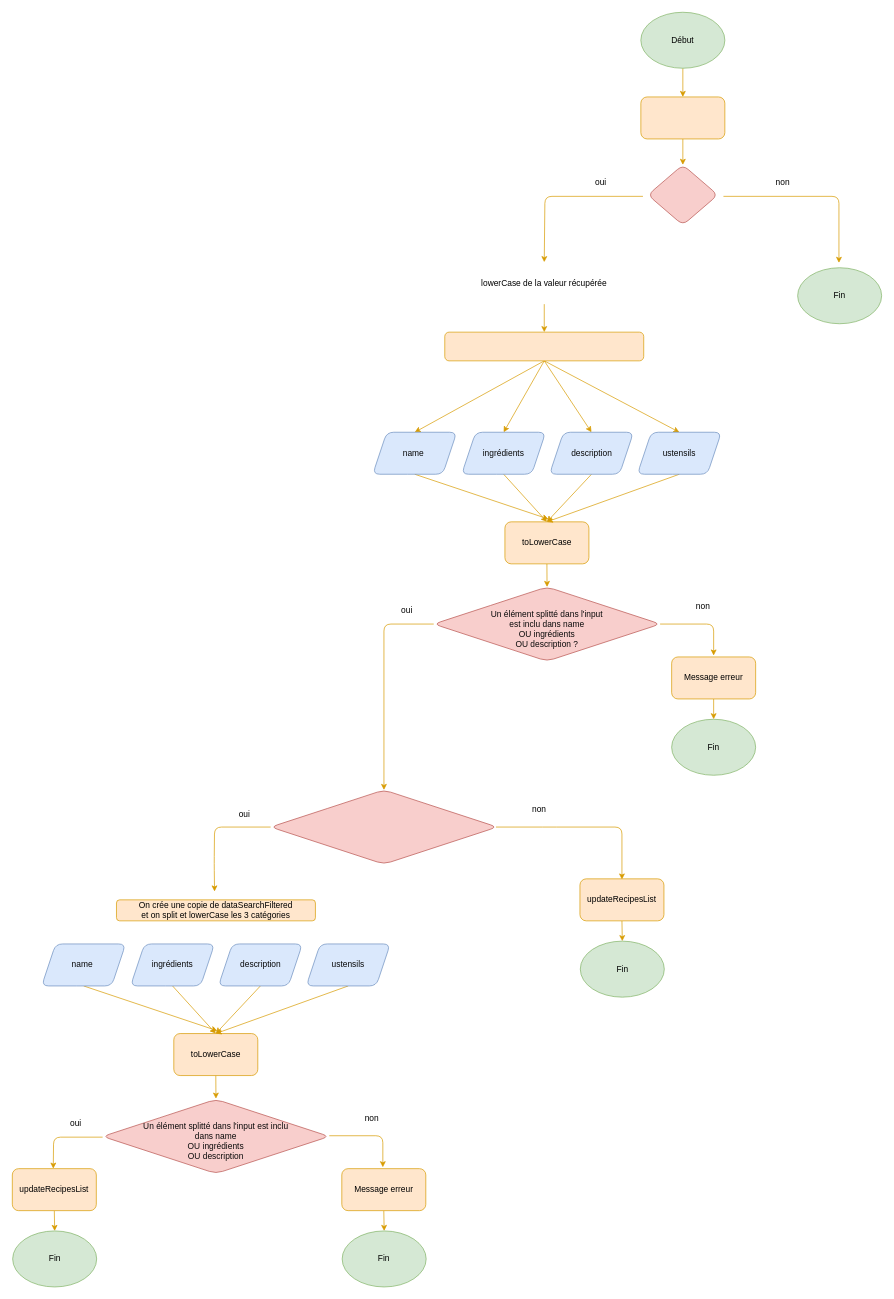
This 894x1299 diagram has some shape labels left out. Here are the shapes that lost their labels. From the top down, the centre of each, then its label:
At [682,117]: "Barre de recherche".
At [682,194]: "texte.length >= 3".
At [544,346]: "Dans un tableau contenant les recettes Pour chaque élément splitté :".
At [383,826]: "Tags / labels existants ? OU Si un tag est supprimé".
